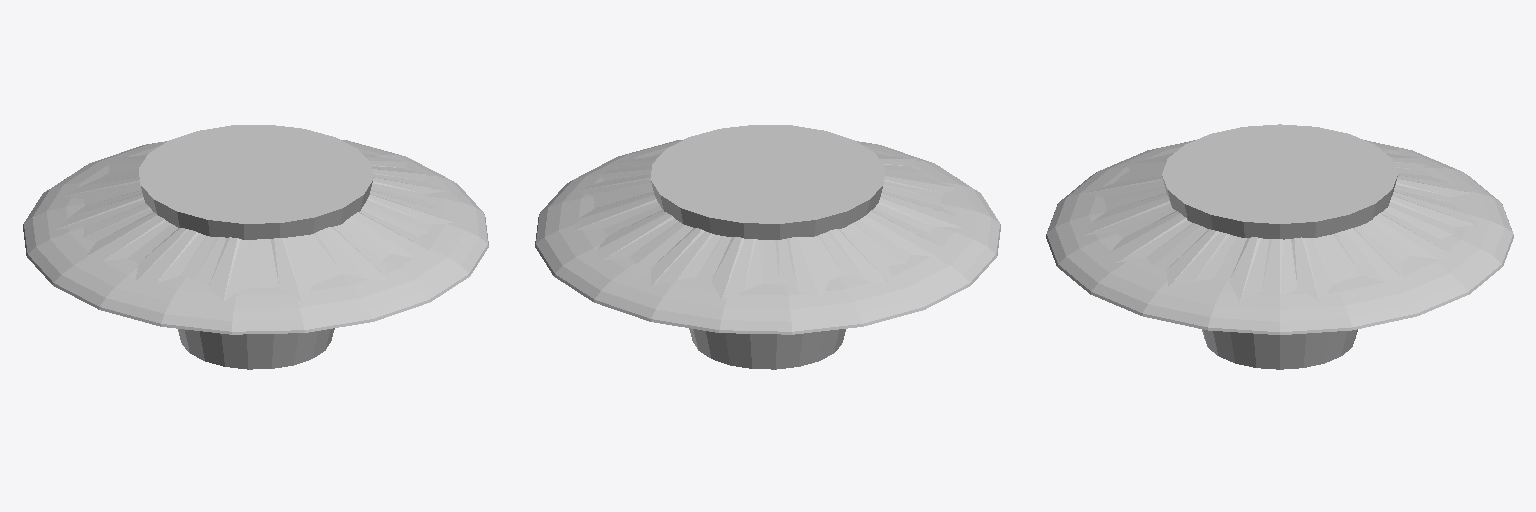
The model's file is PinballBumper.obj.
The picture shows the model from 3 angles: view 1: azimuth 30°, elevation 25°; view 2: azimuth 150°, elevation 25°; view 3: azimuth 270°, elevation 25°; orthographic projection.
Parts seen in each view (by area): view 1: polySurface1, pCylinder3; view 2: polySurface1, pCylinder3; view 3: polySurface1, pCylinder3.
Part boxes in pixels (x1,y1,x2,y2): polySurface1: (23,139,488,334); pCylinder3: (139,125,373,369); polySurface1: (535,139,1000,334); pCylinder3: (650,125,884,369); polySurface1: (1046,140,1513,334); pCylinder3: (1162,124,1397,369).
Bounding box in the file's own units: 39.69 × 15.26 × 39.69.